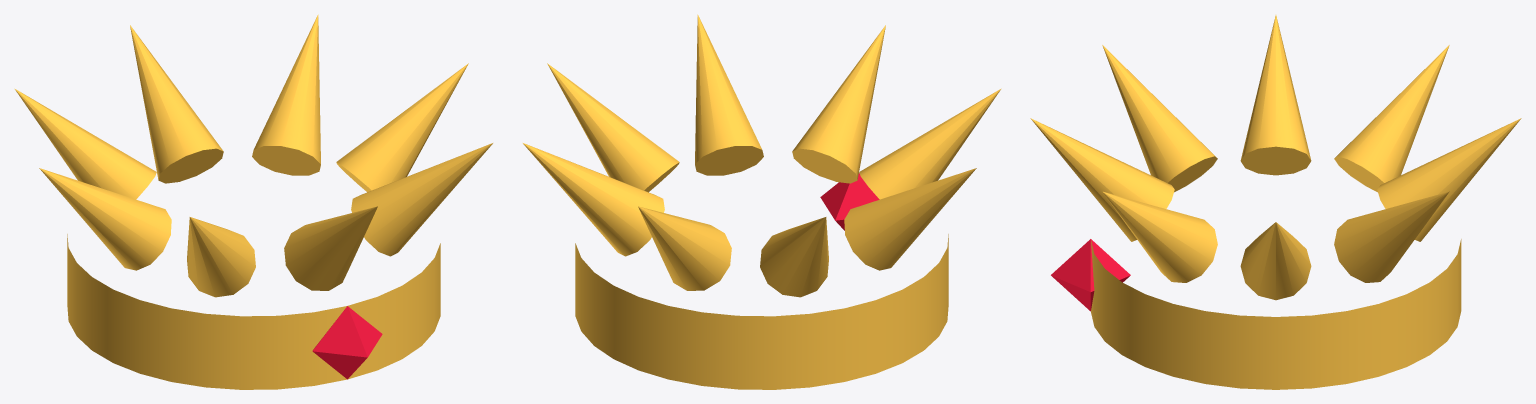
File: crown.glb
3 renders of one model, left to right at view 1: azimuth 30°, elevation 25°; view 2: azimuth 150°, elevation 25°; view 3: azimuth 270°, elevation 25°, orthographic.
Visible parts, largest first — view 1: crown; view 2: crown; view 3: crown.
Boxes of the visible parts, <box> form: crown: <box>14,14,492,389</box>; crown: <box>523,14,1001,389</box>; crown: <box>1030,15,1521,389</box>.
Bounding box in the file's own units: 0.3055 × 0.1328 × 0.3055.
